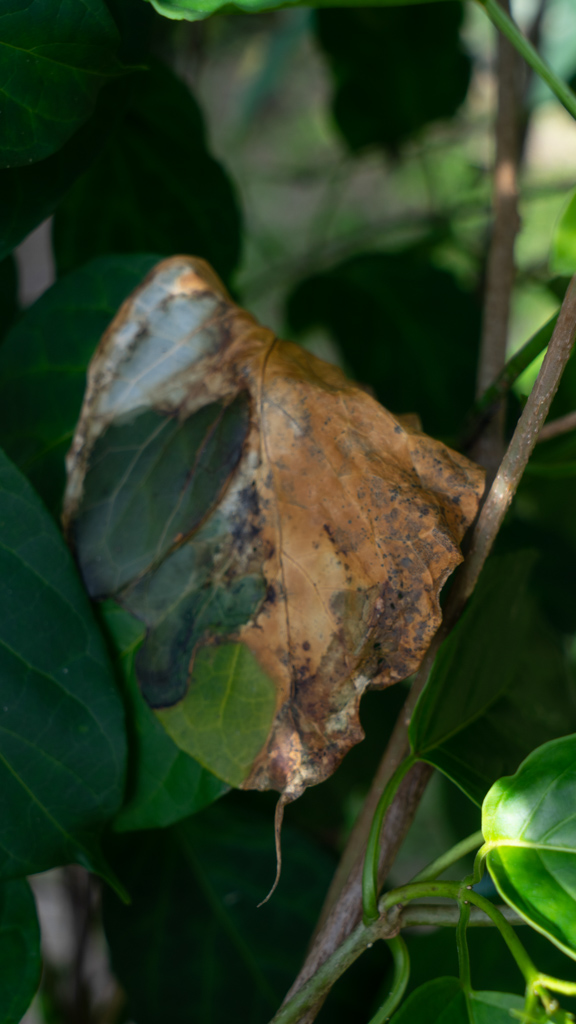Rust: (54, 248, 485, 838)
